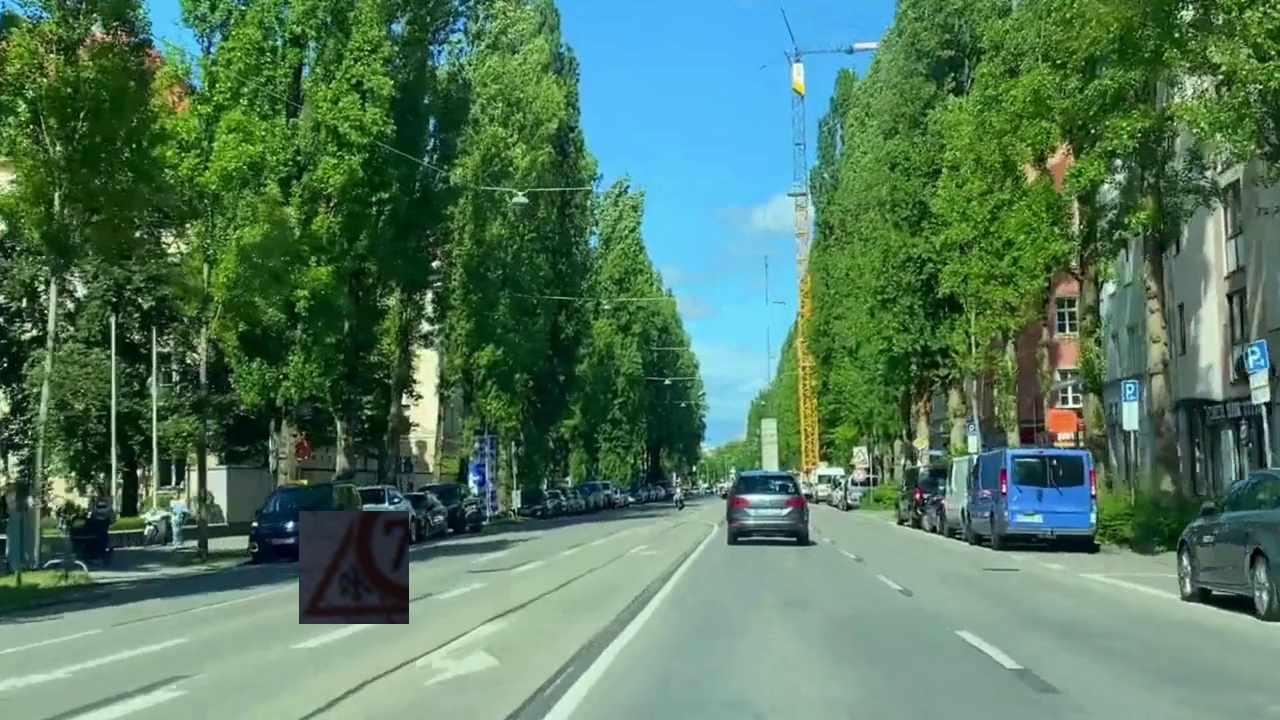Ice/snow: (299, 511, 409, 624)
